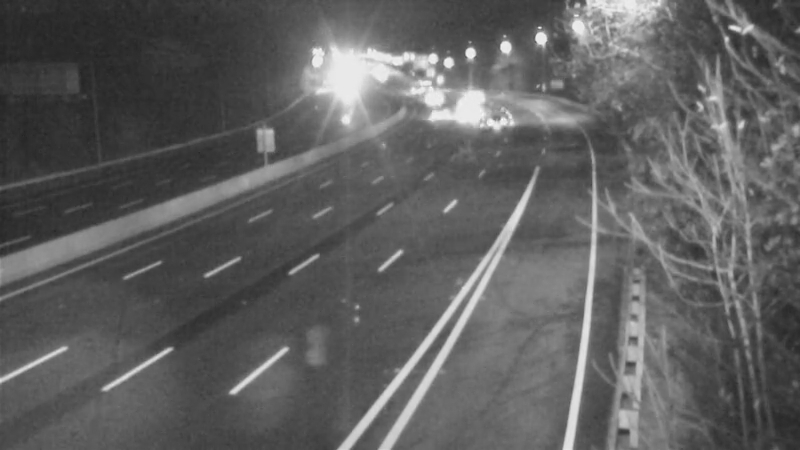vehicle: (410, 75, 460, 125), (448, 68, 498, 118), (438, 83, 488, 133), (411, 90, 461, 140), (443, 92, 493, 142), (468, 98, 518, 148)
